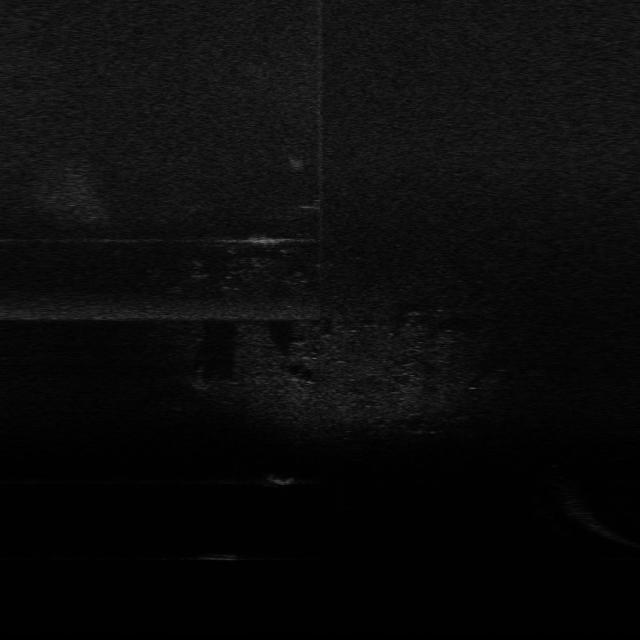cube: (197, 550, 241, 563)
square cage: (263, 470, 298, 488)
